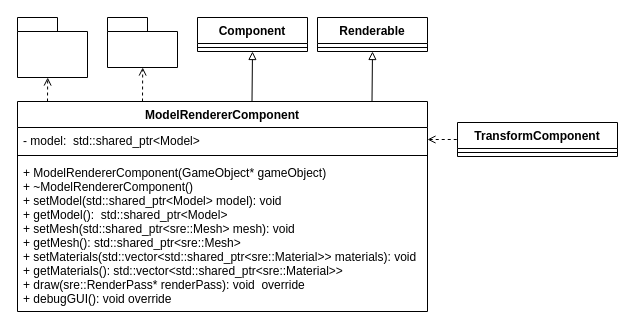
The diagram is 635 pixels wide and 332 high, and some of its shapes have lost their labels. The shapes that lost their labels are listed below. From the top down, each one's centre as x and y in pixels, then its label:
At (x=52, y=47): "SRE".
At (x=142, y=42): "IMGui".
